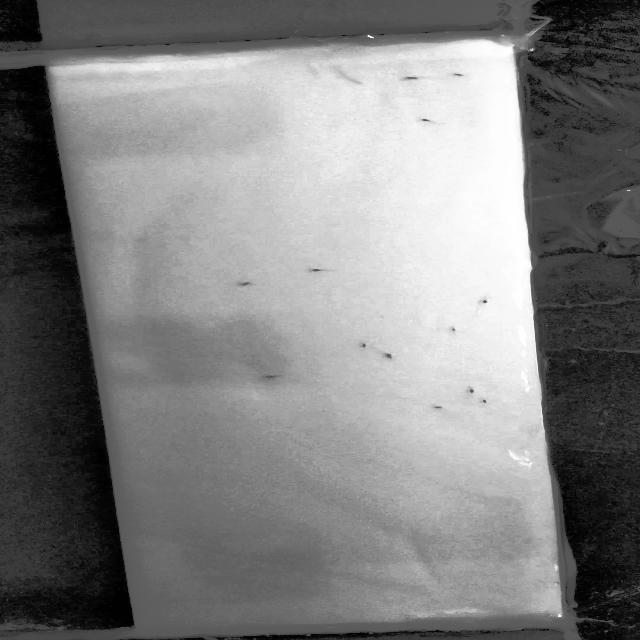shrimp: (392, 68, 426, 82), (307, 264, 336, 276), (414, 116, 441, 128), (445, 322, 462, 338), (384, 350, 402, 364), (260, 372, 284, 381), (478, 296, 494, 309), (460, 384, 477, 394), (450, 71, 471, 79), (237, 278, 258, 285), (479, 397, 493, 406), (358, 341, 372, 349), (432, 402, 445, 410)
